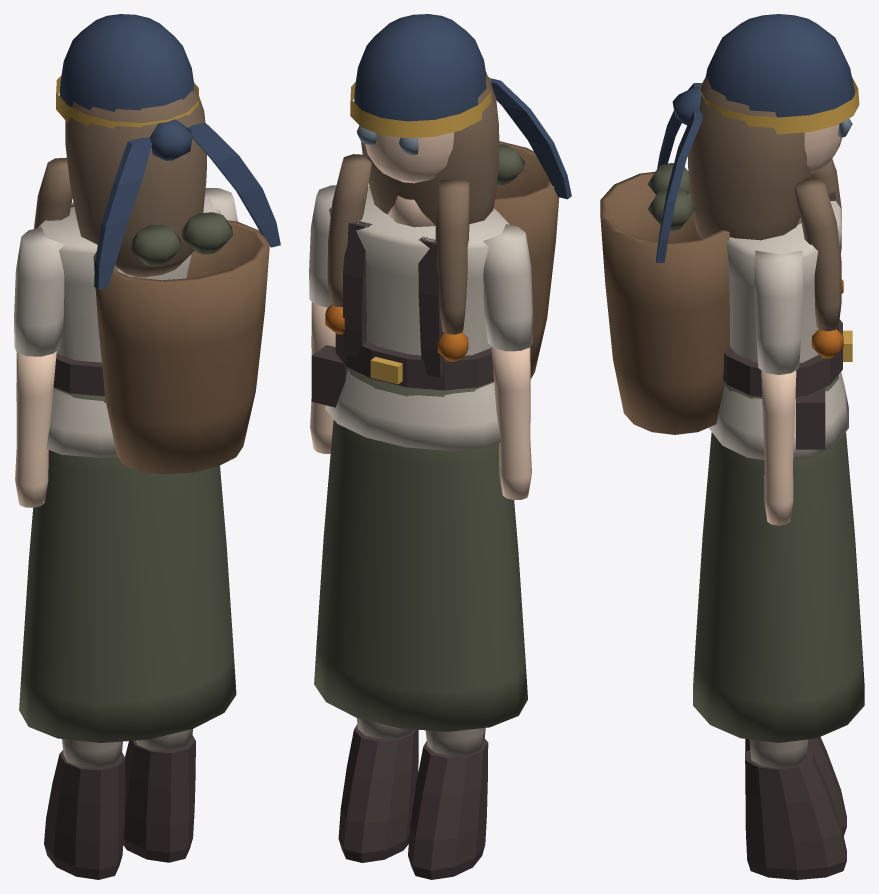
Rendered from oravitsa.glb.
3 views of the same model, side by side, from view 1: azimuth 30°, elevation 25°; view 2: azimuth 150°, elevation 25°; view 3: azimuth 270°, elevation 25° (orthographic).
Visible parts, largest first — view 1: Skirt.001, Basket.001, Hair.001, BandanaCap.001, Tunic, Boot_L, Boot_R, Sleeve_L, Forearm_L, BandanaTail_L, BandanaTail_R, Braid_L (+8 smaller); view 2: Skirt.001, Tunic, BandanaCap.001, Boot_L, Boot_R, Hair.001, Basket.001, Sleeve_L, Forearm_L, Braid_L, Belt.001, Braid_R (+14 smaller); view 3: Skirt.001, Basket.001, Hair.001, BandanaCap.001, Boot_R, Tunic, Sleeve_R, Forearm_R, Braid_R, Belt.001, BandanaBand.001, BandanaTail_R (+10 smaller).
Part boxes in pixels (x1=…): Skirt.001: x1=19, y1=387, x2=236, y2=742; Basket.001: x1=93, y1=220, x2=269, y2=474; Hair.001: x1=65, y1=82, x2=206, y2=277; BandanaCap.001: x1=59, y1=14, x2=193, y2=111; Tunic: x1=37, y1=196, x2=221, y2=457; Boot_L: x1=44, y1=750, x2=125, y2=879; Boot_R: x1=123, y1=735, x2=195, y2=862; Sleeve_L: x1=14, y1=227, x2=64, y2=356; Forearm_L: x1=15, y1=351, x2=56, y2=507; BandanaTail_L: x1=94, y1=137, x2=151, y2=289; BandanaTail_R: x1=188, y1=122, x2=280, y2=247; Braid_L: x1=34, y1=157, x2=72, y2=228; Skirt.001: x1=314, y1=367, x2=527, y2=731; Tunic: x1=325, y1=186, x2=509, y2=450; BandanaCap.001: x1=354, y1=14, x2=486, y2=121; Boot_L: x1=408, y1=739, x2=488, y2=879; Boot_R: x1=338, y1=724, x2=418, y2=862; Hair.001: x1=361, y1=72, x2=499, y2=225; Basket.001: x1=493, y1=141, x2=559, y2=378; Sleeve_L: x1=483, y1=224, x2=532, y2=351; Forearm_L: x1=491, y1=346, x2=531, y2=499; Braid_L: x1=435, y1=179, x2=469, y2=334; Belt.001: x1=335, y1=333, x2=493, y2=390; Braid_R: x1=327, y1=154, x2=371, y2=307; Skirt.001: x1=693, y1=375, x2=864, y2=742; Basket.001: x1=600, y1=172, x2=729, y2=434; Hair.001: x1=687, y1=77, x2=813, y2=240; BandanaCap.001: x1=706, y1=14, x2=854, y2=117; Boot_R: x1=745, y1=749, x2=846, y2=879; Tunic: x1=709, y1=200, x2=848, y2=459; Sleeve_R: x1=754, y1=250, x2=803, y2=374; Forearm_R: x1=761, y1=370, x2=796, y2=525; Braid_R: x1=794, y1=178, x2=841, y2=331; Belt.001: x1=723, y1=319, x2=842, y2=396; BandanaBand.001: x1=699, y1=77, x2=859, y2=134; BandanaTail_R: x1=656, y1=110, x2=702, y2=262.
Bounding box in the file's own units: 0.416 × 1.5 × 0.4325.
